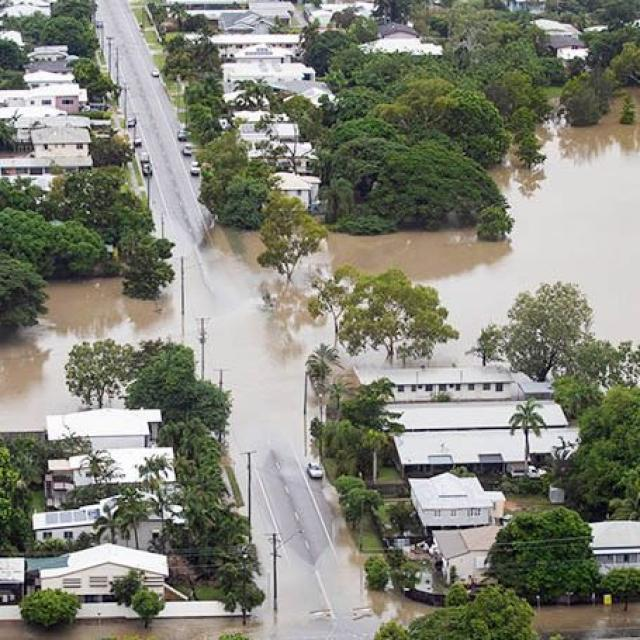flooded_areas: (0, 226, 639, 444)
